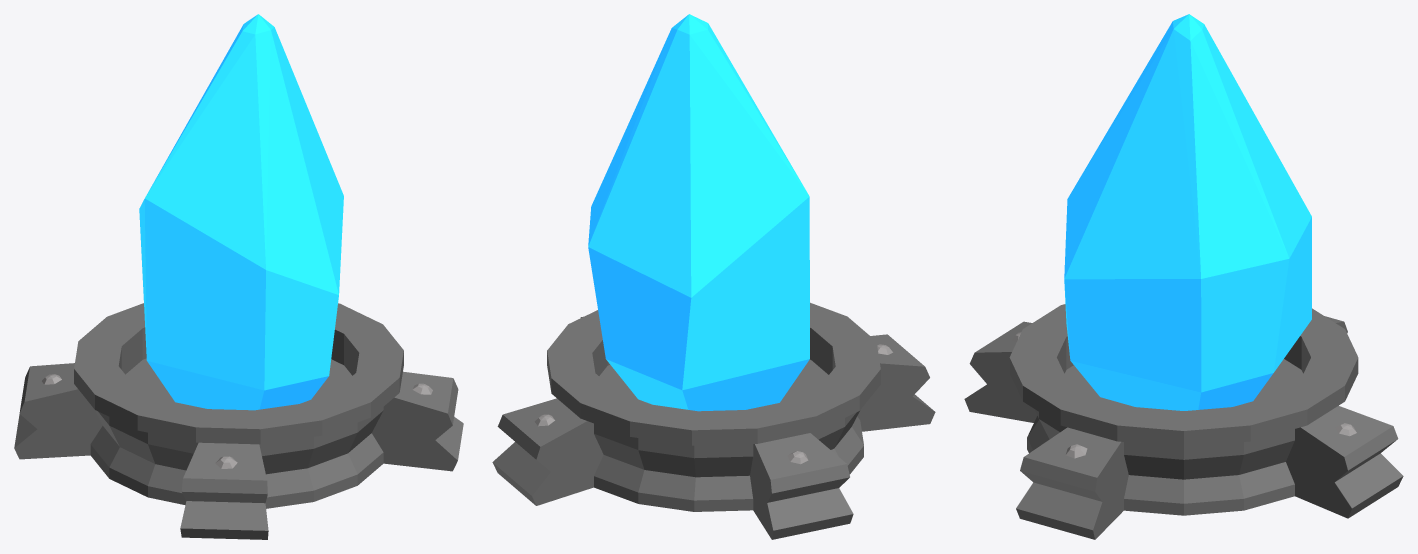
Rendered from SmlMagicTrap_2_Stone.fbx.
The picture shows the model from 3 angles, left to right: view 1: azimuth 30°, elevation 25°; view 2: azimuth 150°, elevation 25°; view 3: azimuth 270°, elevation 25°; orthographic projection. The views are drawn at different scales.
Visible parts, largest first — view 1: SmlMagicTrap_2_Stone; view 2: SmlMagicTrap_2_Stone; view 3: SmlMagicTrap_2_Stone.
Part boxes in pixels (x1,y1,x2,y2): SmlMagicTrap_2_Stone: [14, 14, 463, 539]; SmlMagicTrap_2_Stone: [492, 14, 935, 539]; SmlMagicTrap_2_Stone: [964, 14, 1403, 539].
Bounding box in the file's own units: 41.71 × 46.81 × 41.71.
